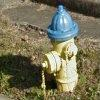Hydrant: (32, 3, 89, 97)
